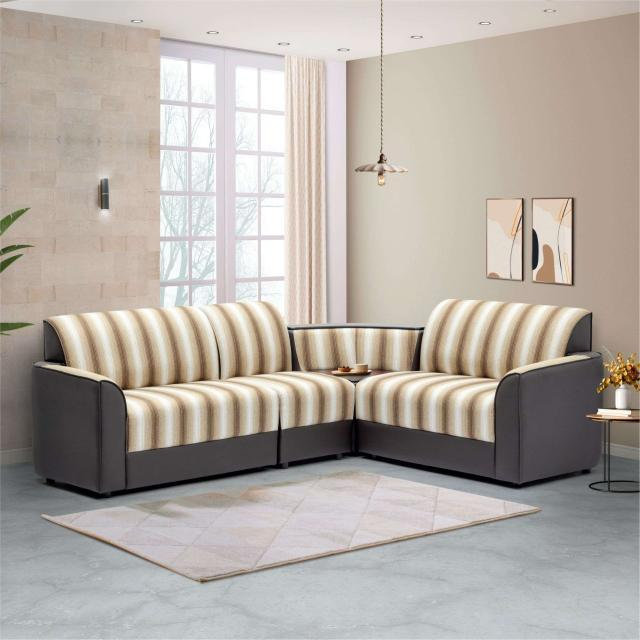sofa: (34, 287, 614, 500)
